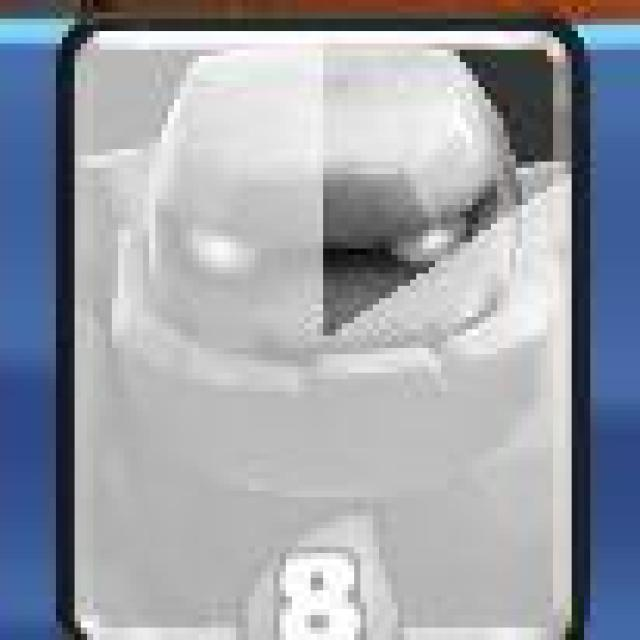Golem: (59, 21, 591, 640)
